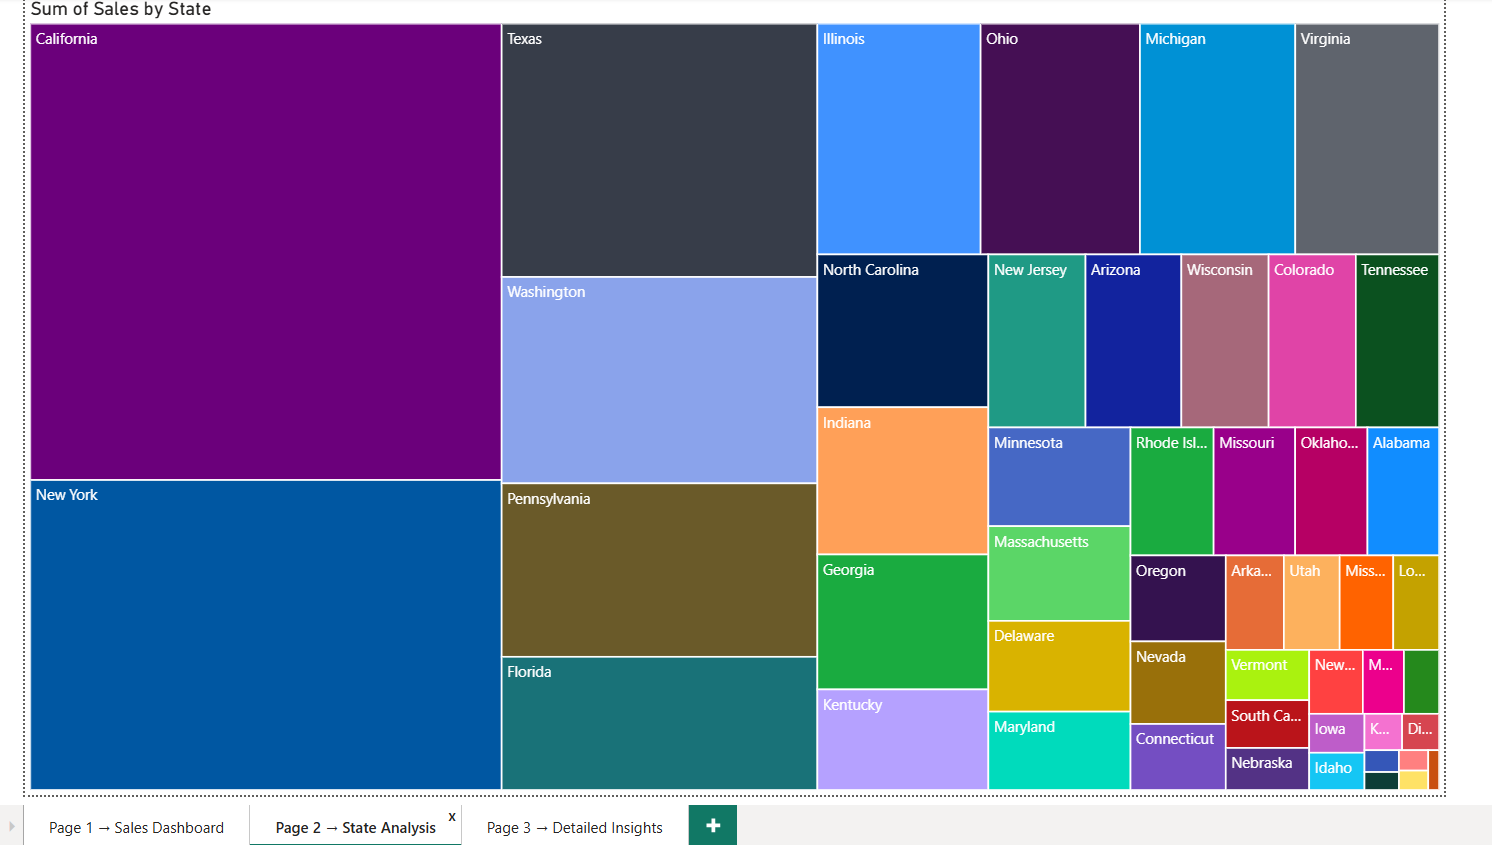

What the dashboard file says about the page in this screenshot:
{"tool":"powerbi","page":{"name":"Page 2 → State Analysis","canvas":[1280,720],"ordinal":1},"visuals":[{"type":"treemap","fields":{"Group":["Sample - Superstore.State"],"Values":["Sum(Sample - Superstore.Sales)"]},"box":[0,0,1280.3,720.2],"z":0}]}

Visuals, with their boxes on the page's 1280x720 design canvas (x1, y1, x2, y2). These are canvas units, not pixel positions in the 1492x845 screenshot, which may show the page scaled, cropped or inside an application window:
treemap - Sample - Superstore.State x Sum(Sample - Superstore.Sales): 0,0,1280,720
